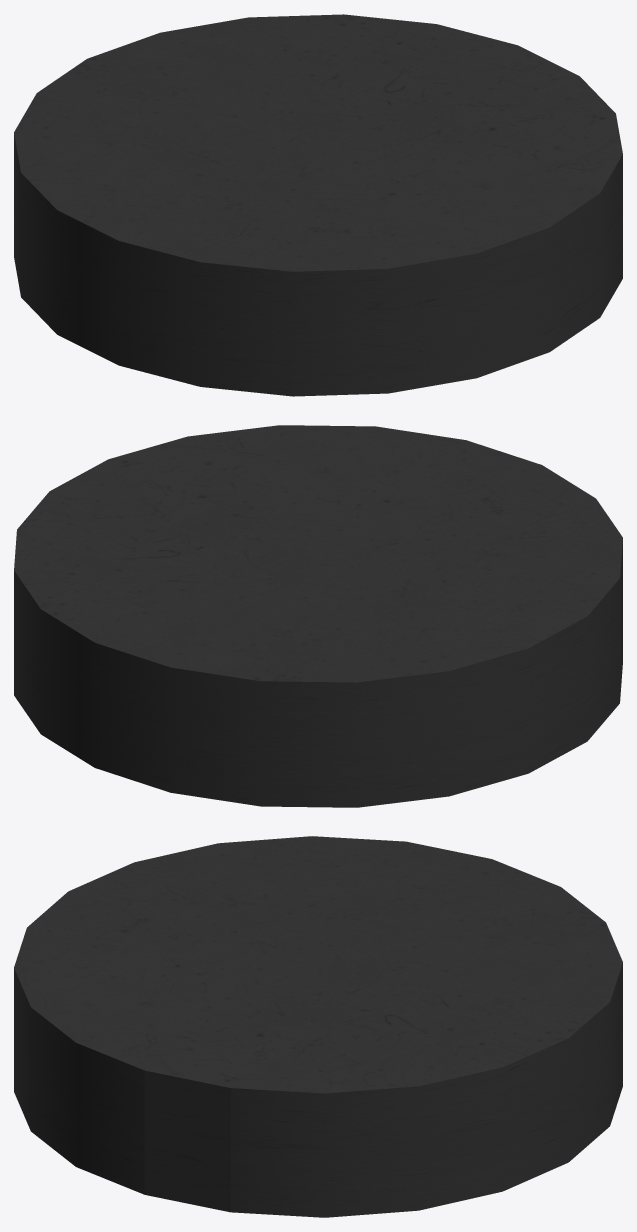
Rendered from TapaGalletas.obj.
3 renders of one model, top to bottom at view 1: azimuth 30°, elevation 25°; view 2: azimuth 150°, elevation 25°; view 3: azimuth 270°, elevation 25°, orthographic.
Visible parts, largest first — view 1: polySurface216polySurface8; view 2: polySurface216polySurface8; view 3: polySurface216polySurface8.
Part boxes in pixels (x1,y1,x2,y2): polySurface216polySurface8: (14, 14, 622, 396); polySurface216polySurface8: (14, 425, 622, 807); polySurface216polySurface8: (14, 836, 622, 1217).
Size of the model in its own units: 0.1892 by 0.0426 by 0.1892.
Materials: 1 (1 with a texture image).
